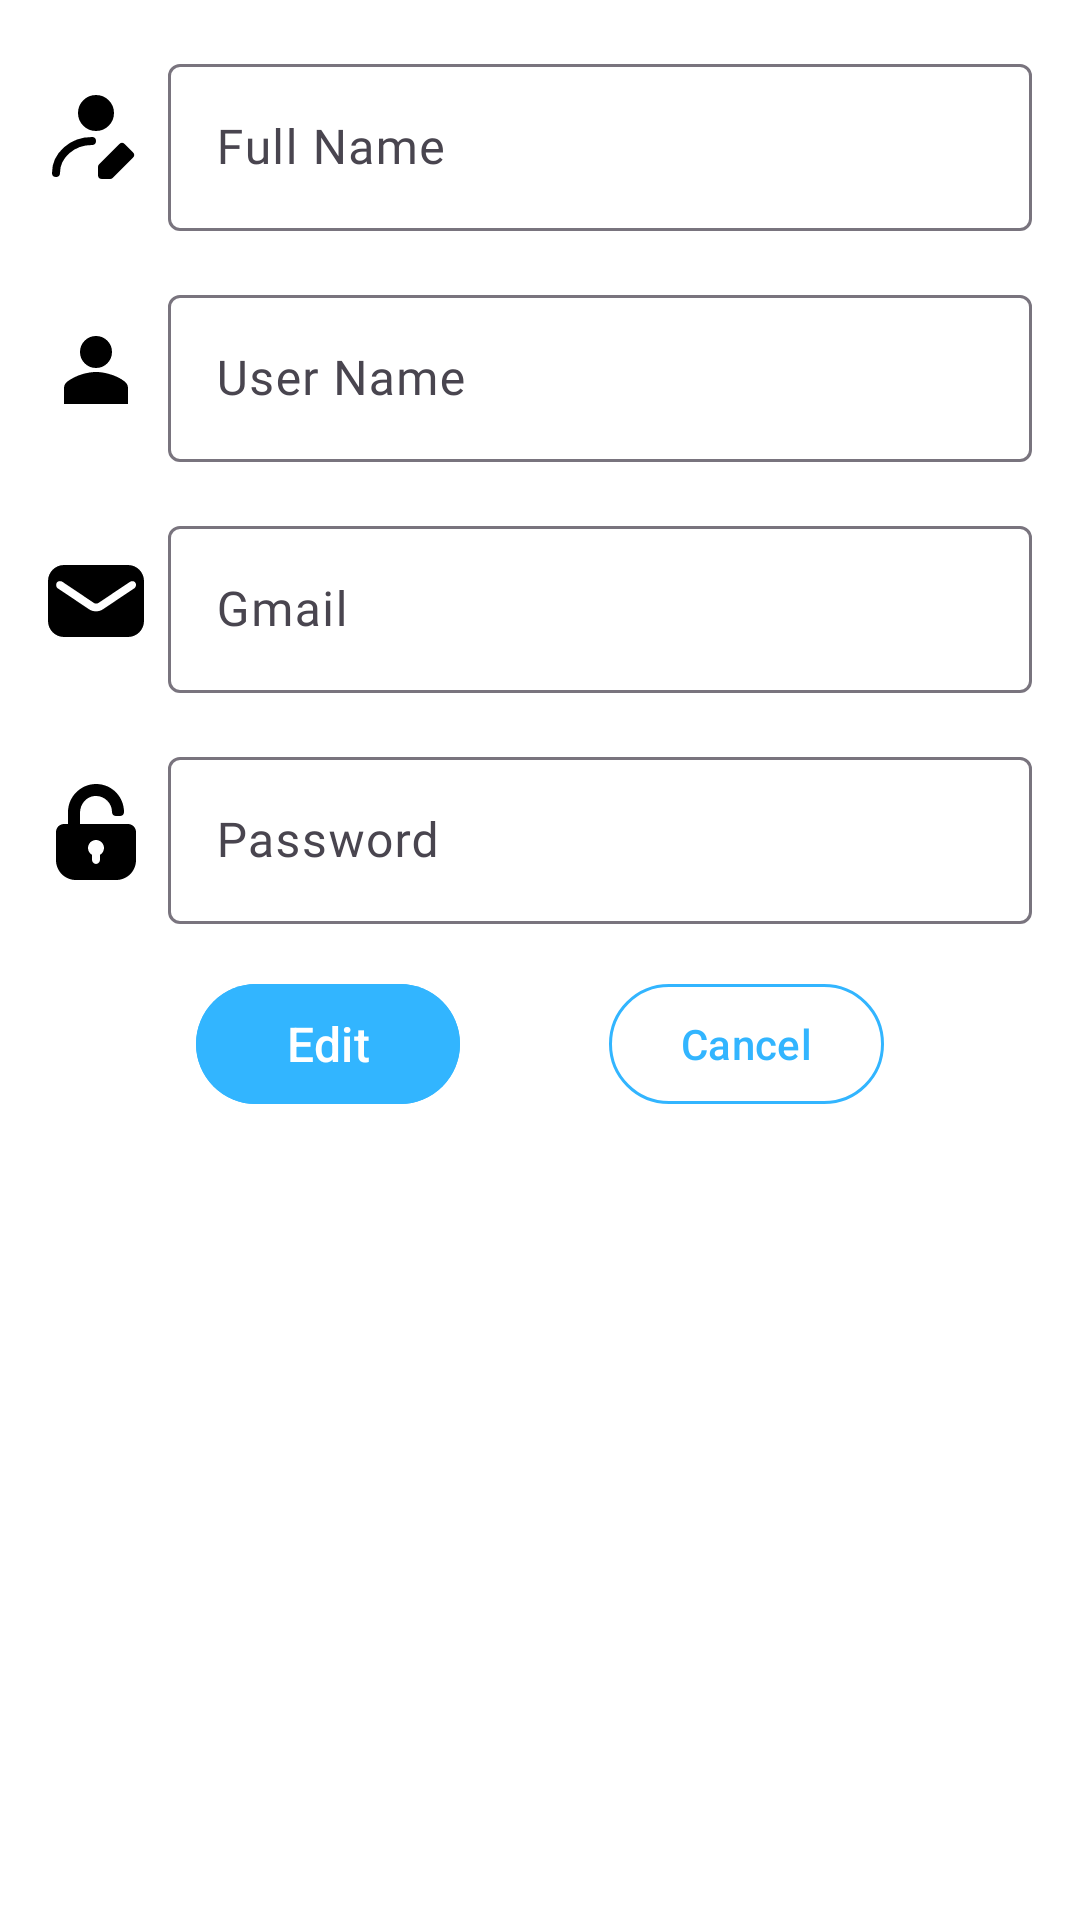

Locate icon controls on the screen. Image size 1080px x 1920px, boxes as (x1=x1, y1=y1, x2=x2, y2=y2).
profile toopor: (x1=64, y1=336, x2=128, y2=404)
